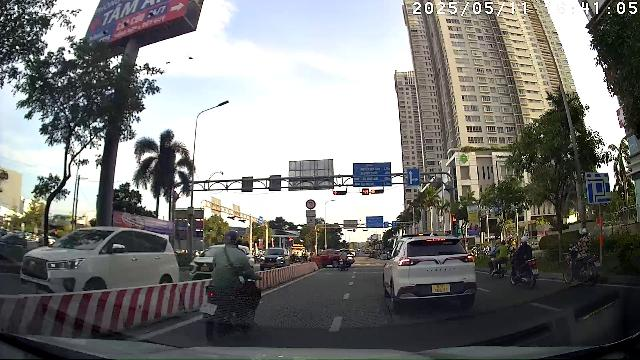103c-cam-oto-re-trai: (306, 199, 316, 209)
